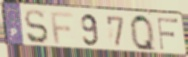7: (105, 15, 126, 48)
9: (80, 13, 100, 47)
F: (49, 11, 74, 46), (156, 17, 180, 52)
Q: (128, 13, 159, 54)
S: (23, 8, 50, 45)
